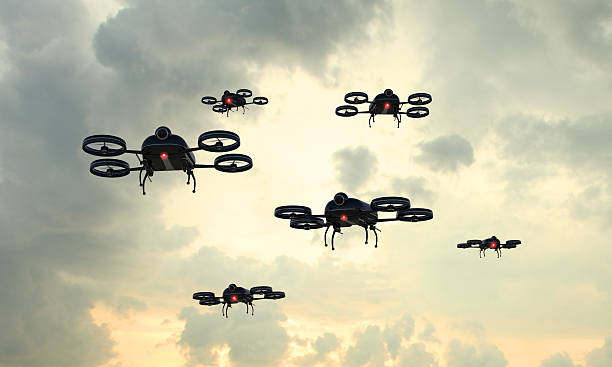Drone: (73, 122, 257, 197), (272, 188, 435, 251), (336, 84, 431, 130), (191, 280, 287, 321), (197, 85, 268, 120), (455, 233, 525, 259)
